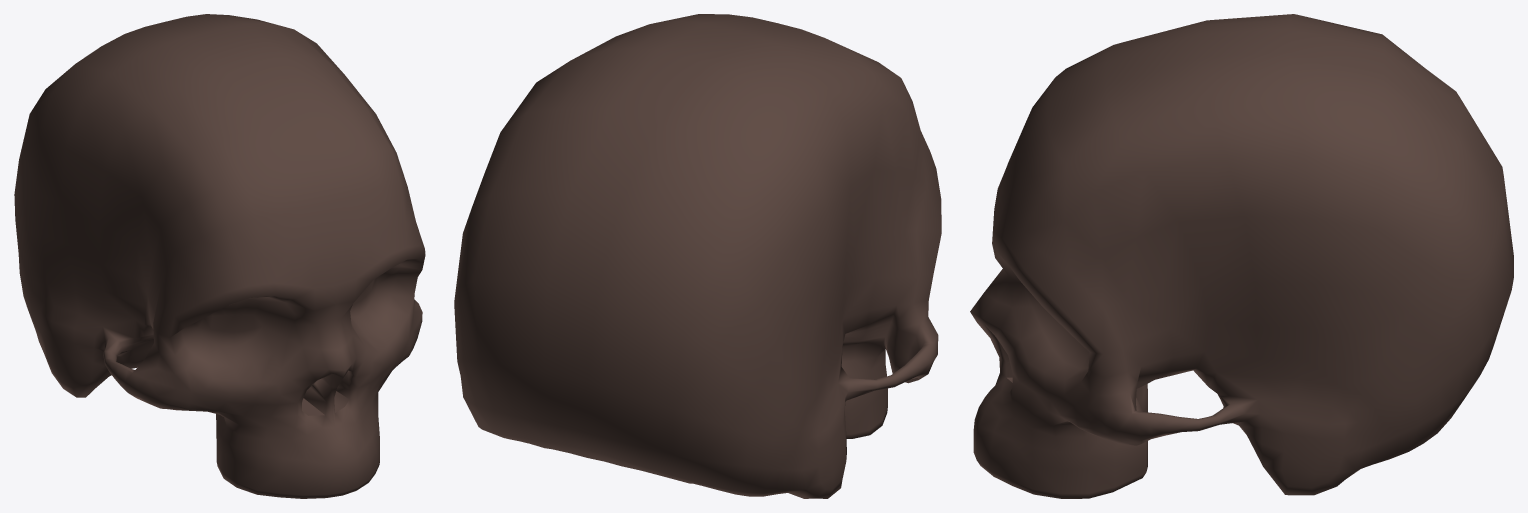
File: Skull_high model.FBX
The picture shows the model from 3 angles, left to right: view 1: azimuth 30°, elevation 25°; view 2: azimuth 150°, elevation 25°; view 3: azimuth 270°, elevation 25°; orthographic projection. The views are drawn at different scales.
Visible parts, largest first — view 1: Skull_upperPiece002; view 2: Skull_upperPiece002; view 3: Skull_upperPiece002.
Boxes of the visible parts, x1,y1,x2,y2 form: Skull_upperPiece002: (14,14,425,498); Skull_upperPiece002: (454,14,941,498); Skull_upperPiece002: (970,14,1513,498).
Bounding box in the file's own units: 0.2243 × 0.2647 × 0.3091.
